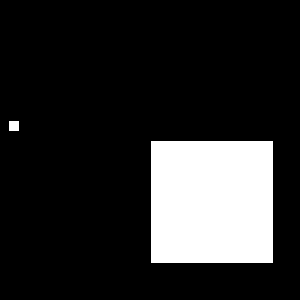circle: (151, 141, 273, 263), (9, 121, 19, 131)
